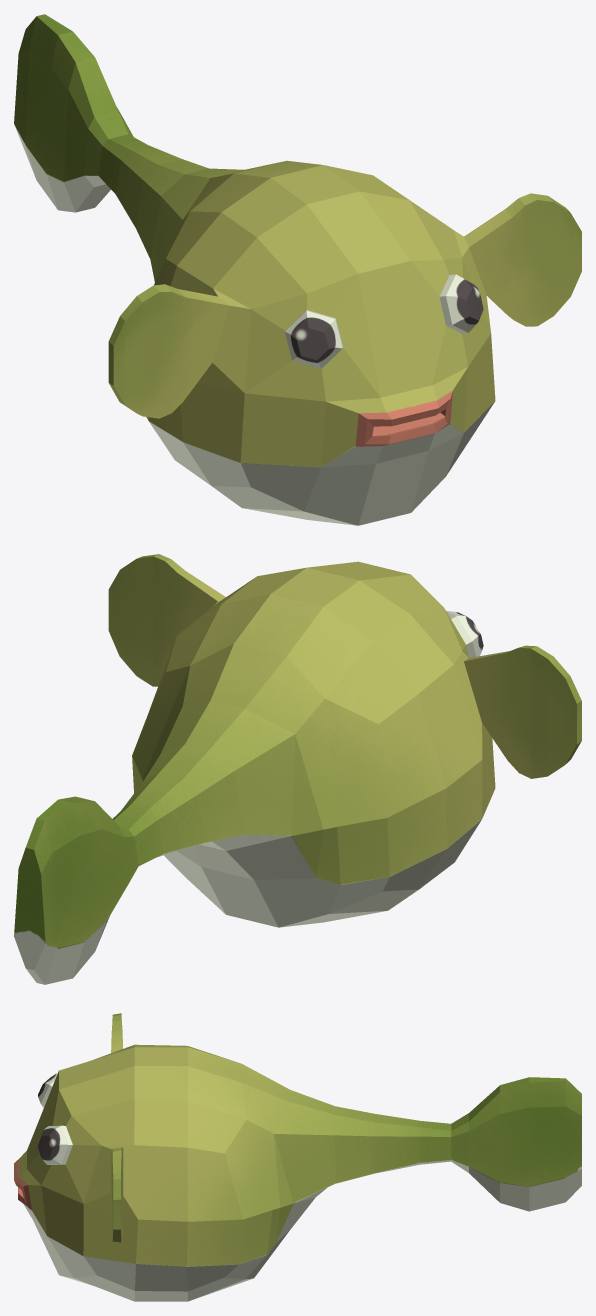
Rendered from pufferFish.fbx.
The picture shows the model from 3 angles, top to bottom: view 1: azimuth 30°, elevation 25°; view 2: azimuth 150°, elevation 25°; view 3: azimuth 270°, elevation 25°; orthographic projection. The views are drawn at different scales.
Visible parts, largest first — view 1: pufferFish1; view 2: pufferFish1; view 3: pufferFish1.
Boxes of the visible parts, left/top/right/bottom form: pufferFish1: left=14, top=14, right=581, bottom=525; pufferFish1: left=14, top=554, right=581, bottom=984; pufferFish1: left=14, top=1013, right=581, bottom=1301.
Bounding box in the file's own units: 2.16 × 1.39 × 3.08.
